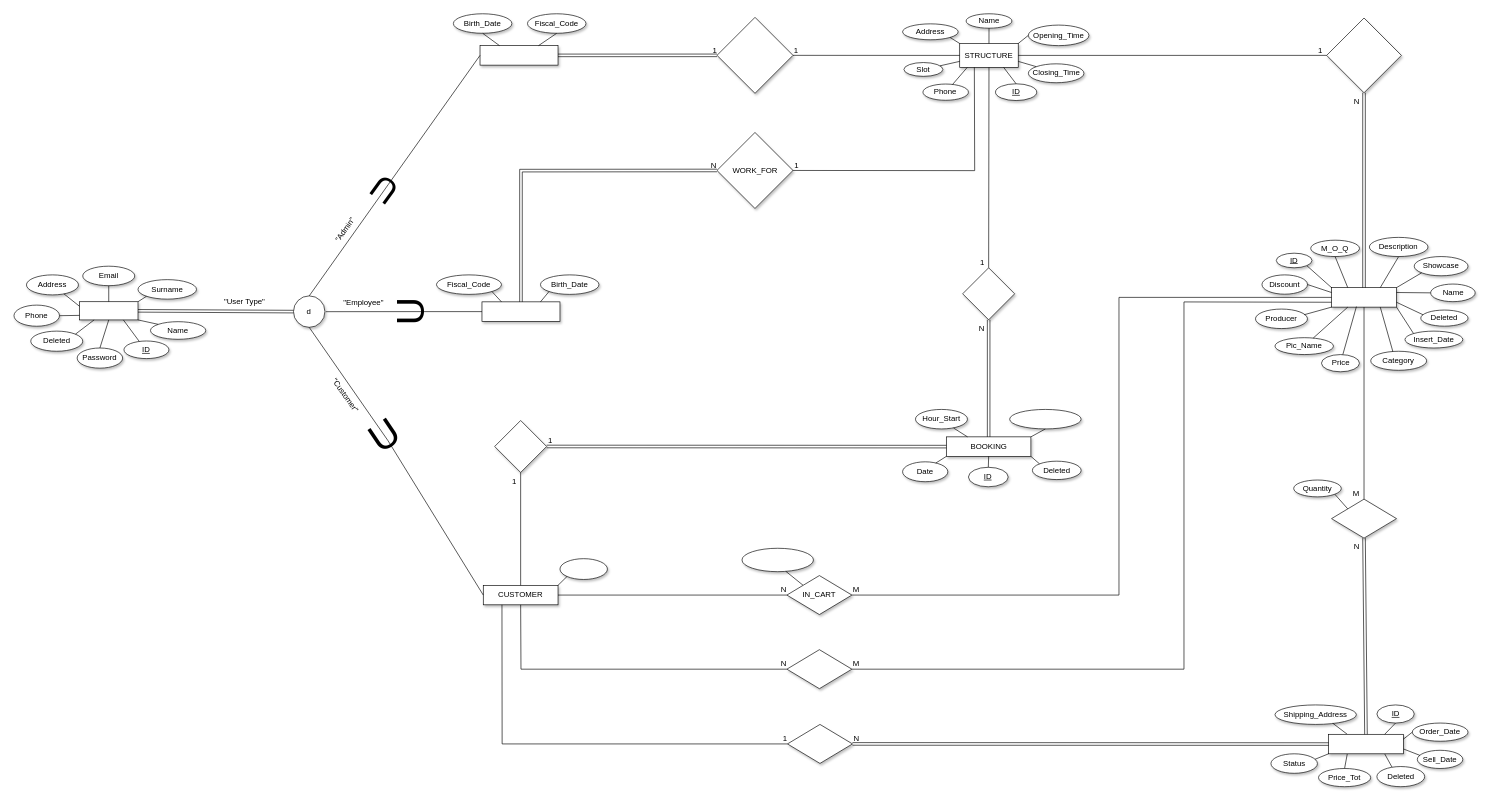
Some shapes in this 1490 by 803 pixel diagram are drawn without their labels. The centre of each missing label's shape, as x and y in pixels:
ADMIN: pixel 519 56
ADMINISTERS: pixel 755 56
Blocked: pixel 584 569
BOOKS: pixel 521 447
COMPOSED: pixel 1364 519
Deleted_Reason: pixel 1045 419
Desired_Quantity: pixel 778 560
EMPLOYEE: pixel 521 312
IN_WISHLIST: pixel 820 669
MAKES: pixel 820 744
ORDERS: pixel 1366 744
PRODUCT: pixel 1364 298
SELL: pixel 1364 56
SUPPLY: pixel 989 294
USER: pixel 109 311
